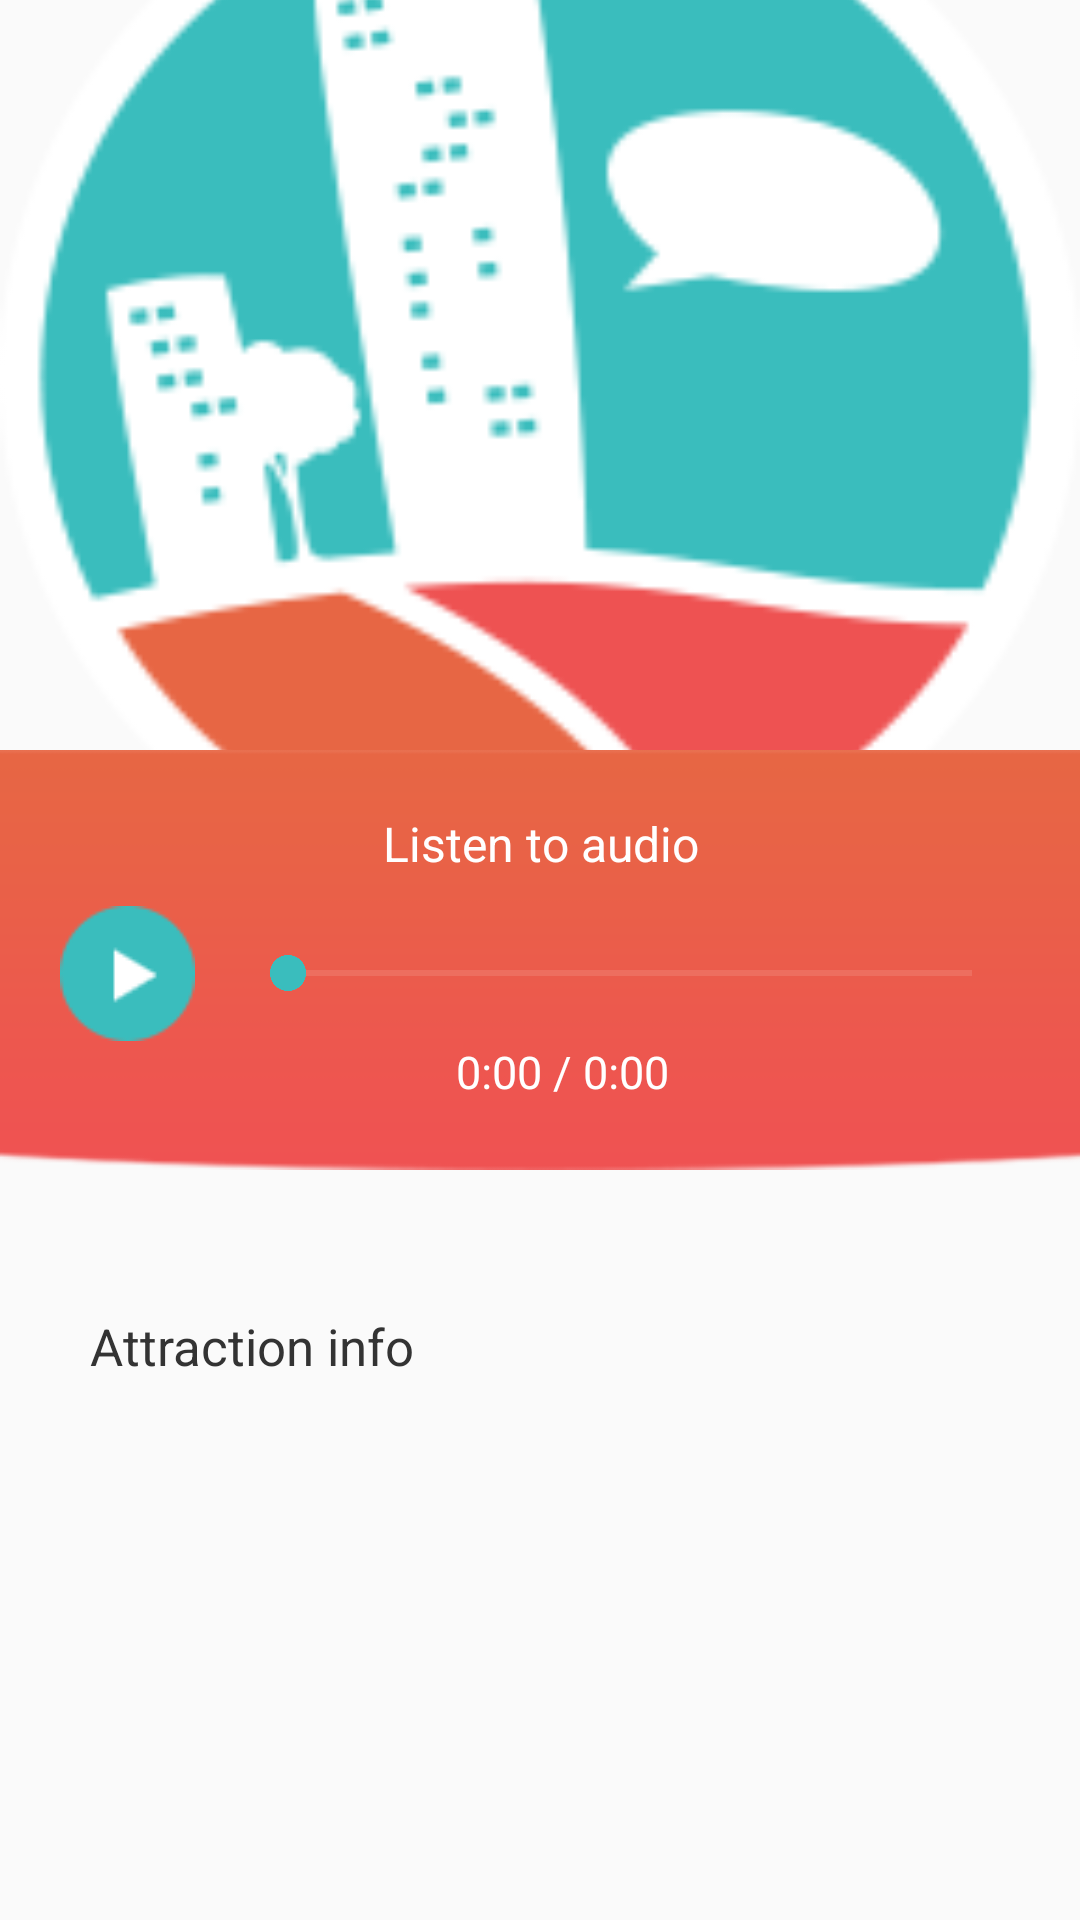

Screen size 1080*1920. Icon name, then its center in pixels as point (x, y):
play: point (127, 973)
